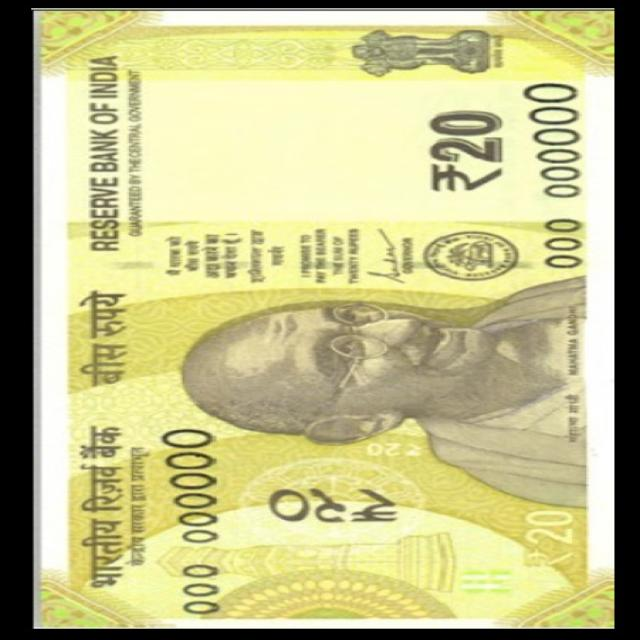20IndianRupees: (41, 9, 614, 631), (31, 14, 620, 387), (41, 264, 614, 634)
